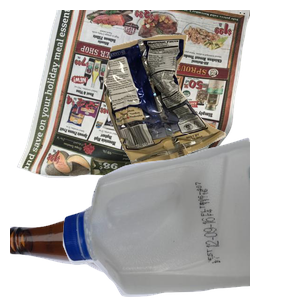glass: (10, 188, 250, 300)
paper: (14, 10, 254, 190)
plastic: (60, 135, 300, 300)
trash: (101, 32, 300, 195)
